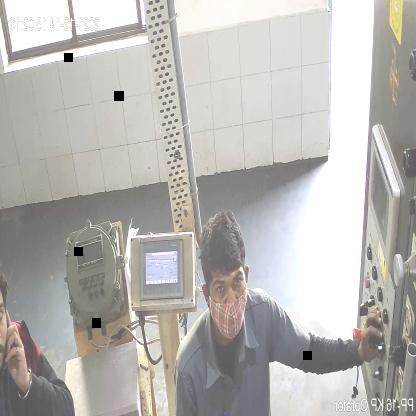no_goggles: (209, 270, 244, 304)
